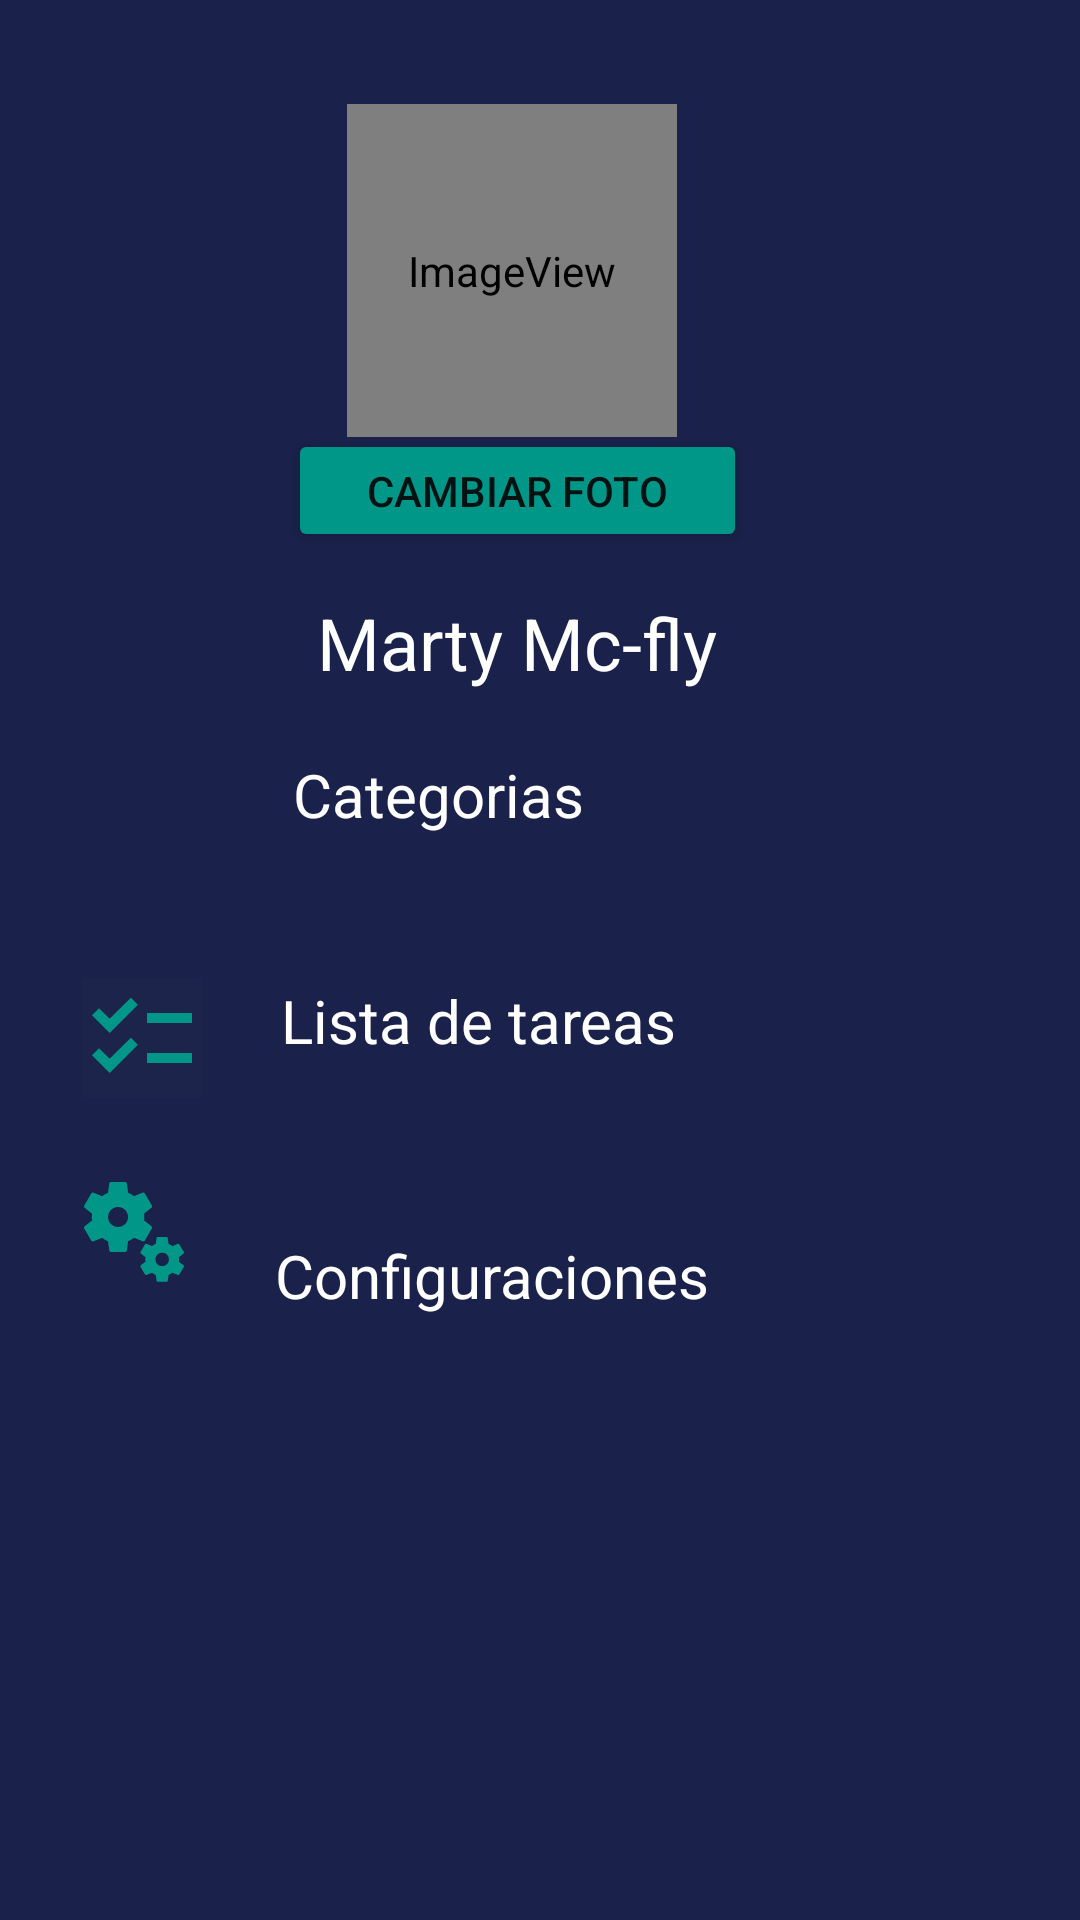

Where to tap for icons on this 1080w x 1920h app screen, as (x=x, y=y):
checklist: (x=142, y=1035)
configverde: (x=134, y=1232)
